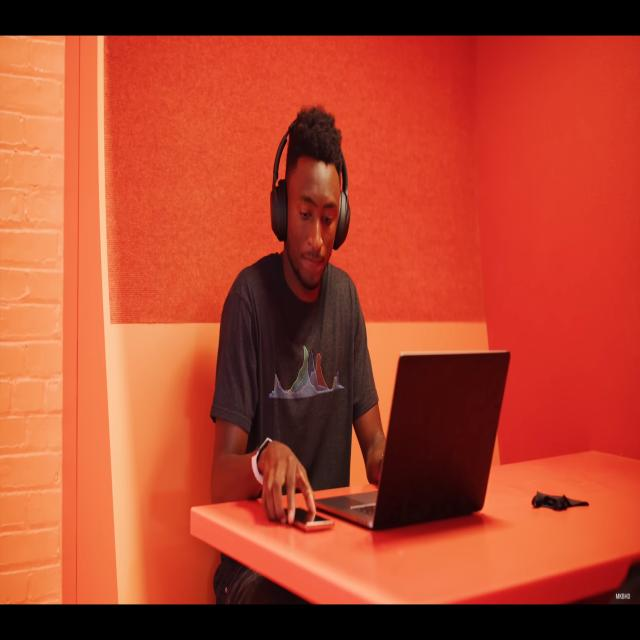Headphone: (268, 122, 352, 251)
